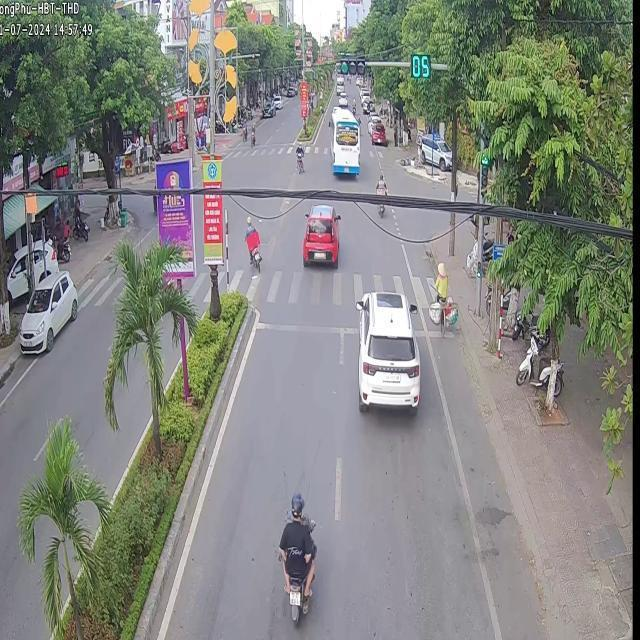car: (355, 289, 418, 414), (302, 202, 337, 266), (328, 105, 358, 174)
green_light: (338, 54, 364, 74), (479, 154, 488, 194)
motobike: (277, 489, 313, 622), (243, 214, 259, 269)
stop_line: (255, 320, 358, 331), (413, 327, 456, 337)
